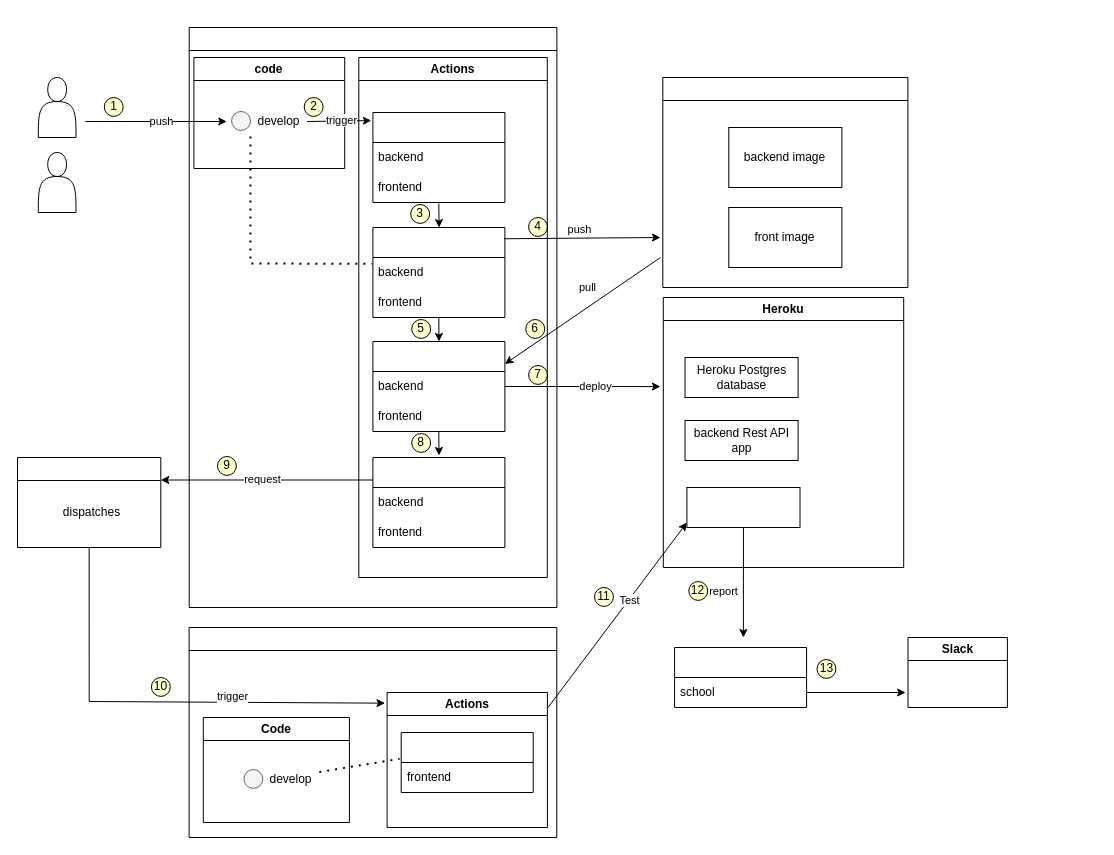
This 1114x855 diagram has some shape labels left out. Here are the shapes that lost their labels. From the top down, the box of each, then its label:
(372, 112, 505, 202): Unit Test
(662, 76, 908, 288): Docker Hub
(372, 226, 505, 318): Docker Build and Upload
(188, 26, 557, 608): GitHub Repository: school_enrollment
(372, 340, 505, 432): Deploy to Heroku
(16, 456, 161, 548): GitHub API
(372, 456, 505, 548): Trigger Integreation Test
(686, 486, 800, 528): front app
(674, 646, 807, 708): Cypress Cloud
(188, 626, 557, 838): GitHub Repository: cypress_automatipn
(400, 732, 533, 792): Integration Test
